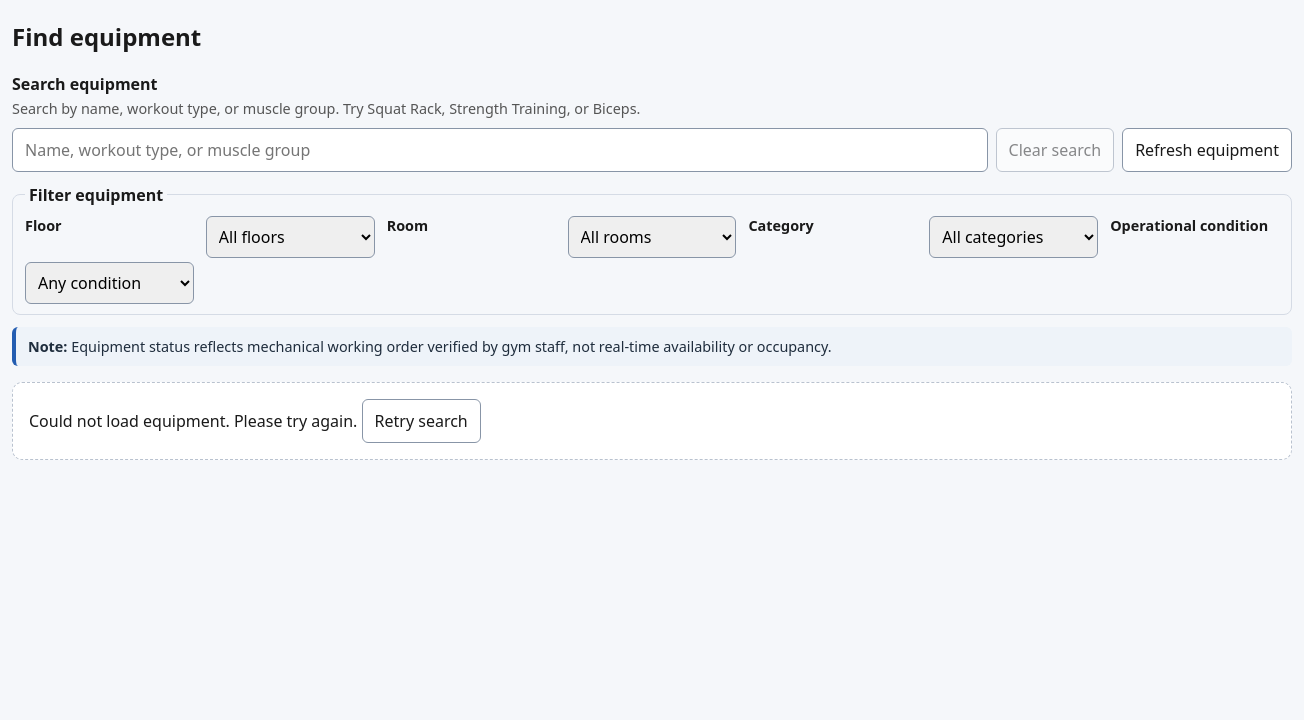
Test: keeps API errors distinct from empty results and allows retry
This screenshot has width=1304, height=720.
Expected: the message "Could not load equipment. Please try again. Retry search" is shown, [12, 382, 1292, 460]
Click the button "Retry search" at (421, 421), box [362, 399, 481, 443]
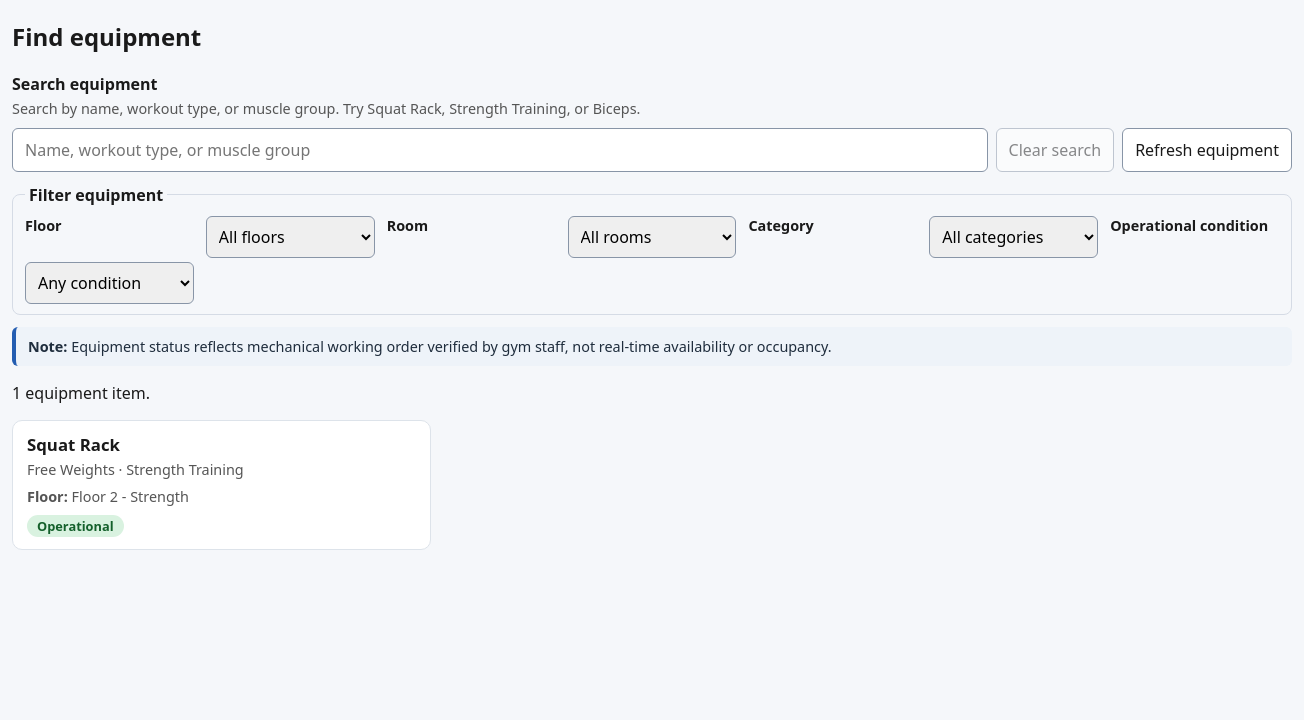
Now the heading "Squat Rack" is shown, box [27, 433, 120, 456]
